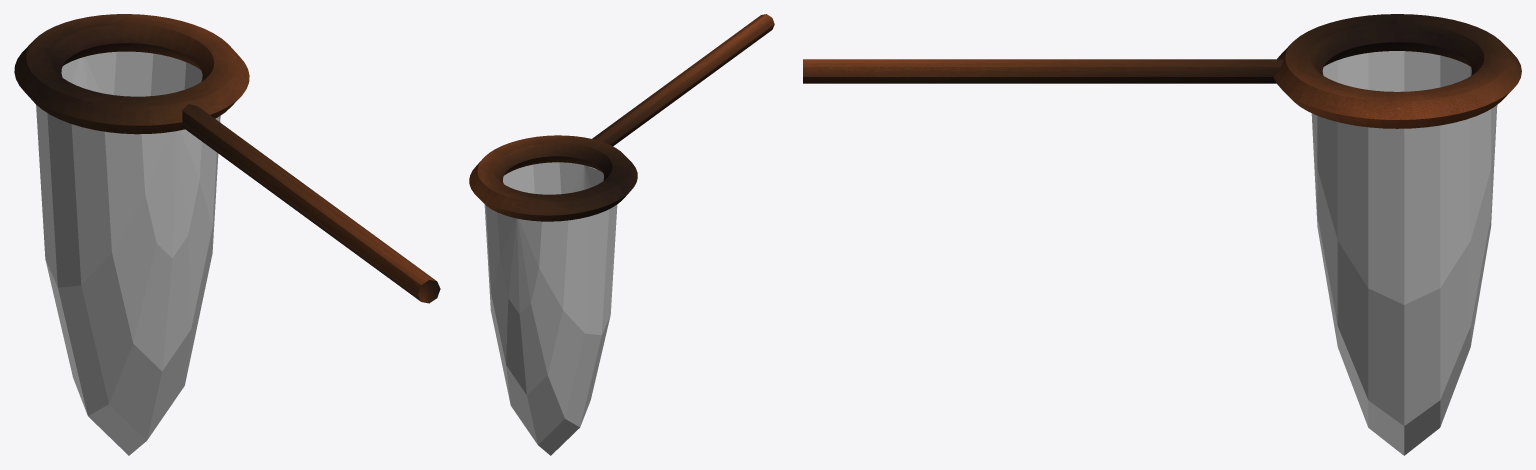
File: red.obj
3 renders of one model, left to right at view 1: azimuth 30°, elevation 25°; view 2: azimuth 150°, elevation 25°; view 3: azimuth 270°, elevation 25°, orthographic. The views are drawn at different scales.
Visible parts, largest first — view 1: Sphere.003; view 2: Sphere.003; view 3: Sphere.003.
Part boxes in pixels (box(x1,y1,x2,y2)): Sphere.003: box(14, 14, 440, 455); Sphere.003: box(469, 14, 774, 455); Sphere.003: box(803, 14, 1521, 455).
Bounding box in the file's own units: 0.1058 × 0.2015 × 0.3299.
